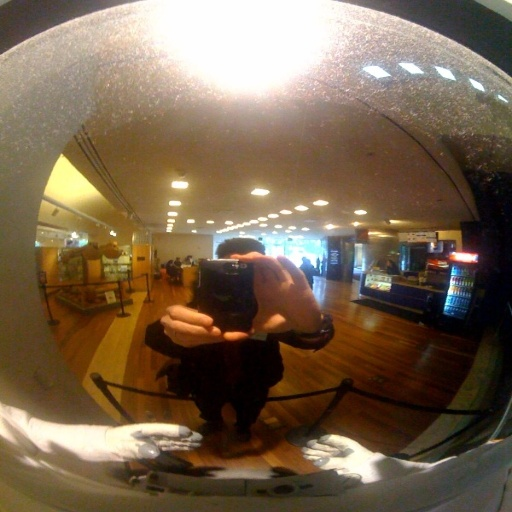hand: (157, 302, 228, 343)
